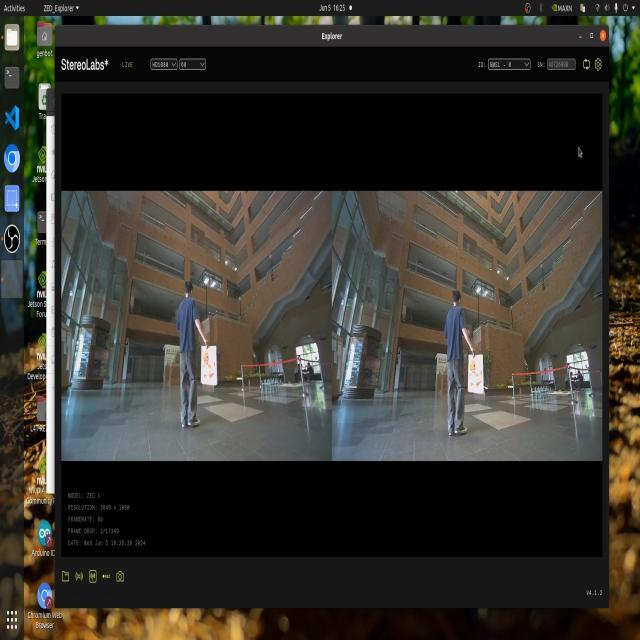red: (200, 339, 217, 395), (471, 356, 483, 394)
